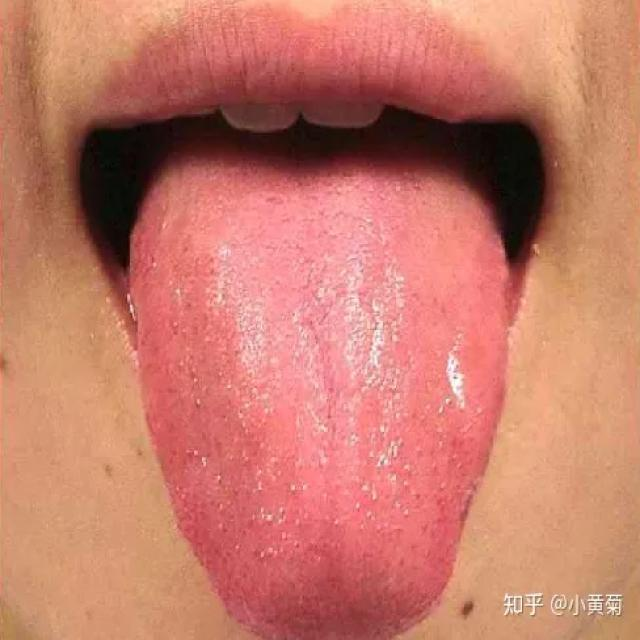tongue: (117, 147, 506, 640)
